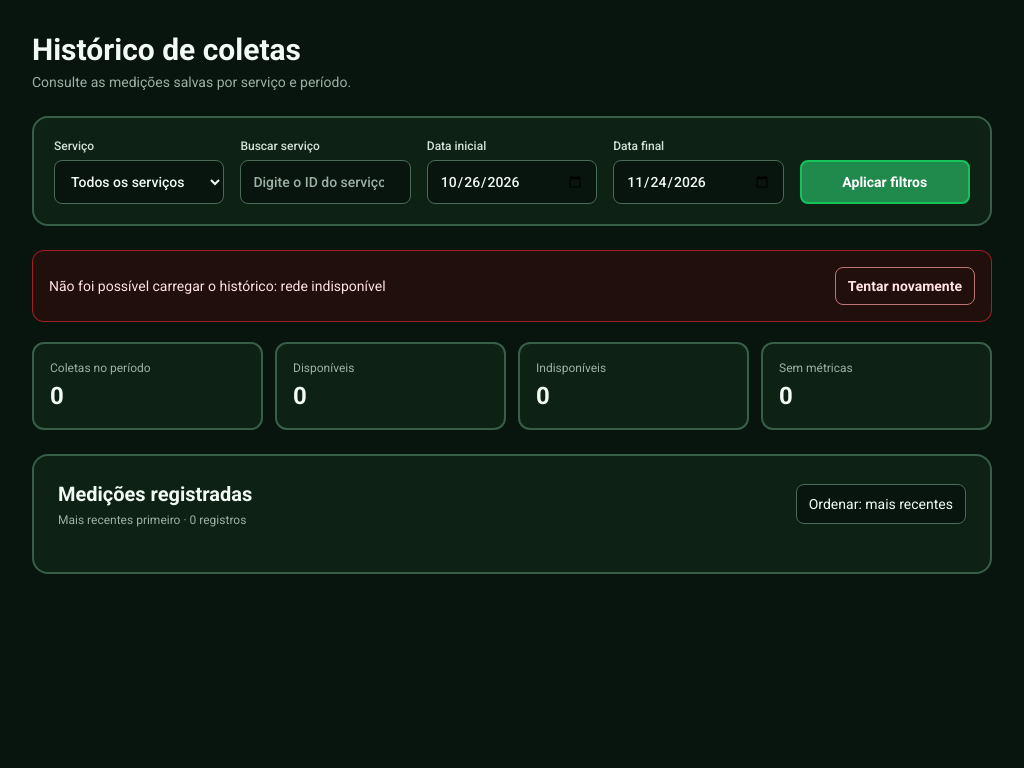
HistoricoPage › apresenta o erro da API e permite tentar novamente
The width and height of the screenshot is (1024, 768).
Expected: the message shows "rede indisponível", x1=280 y1=278 x2=386 y2=294
Click the button "Tentar novamente".
click(905, 286)  # box x1=835 y1=267 x2=975 y2=305
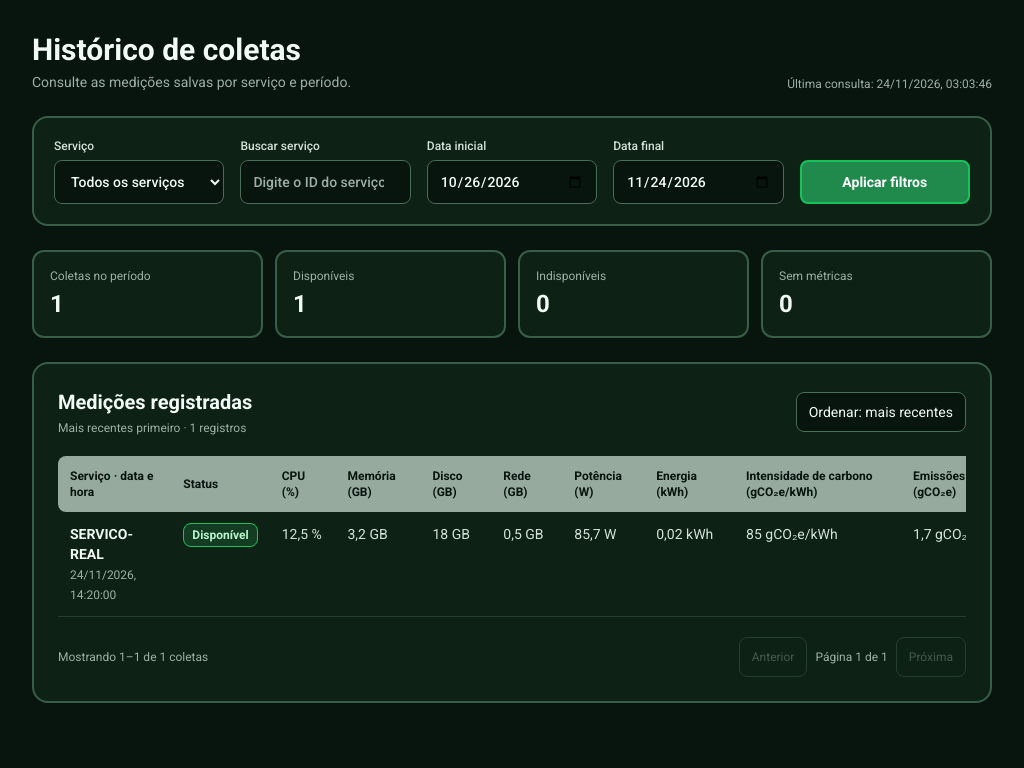
Expected: the row "SERVICO-REAL" is shown, x1=58 y1=512 x2=966 y2=616
Expected: the message "Não foi possível carregar o histórico: rede indisponível Tentar novamente" is gone
